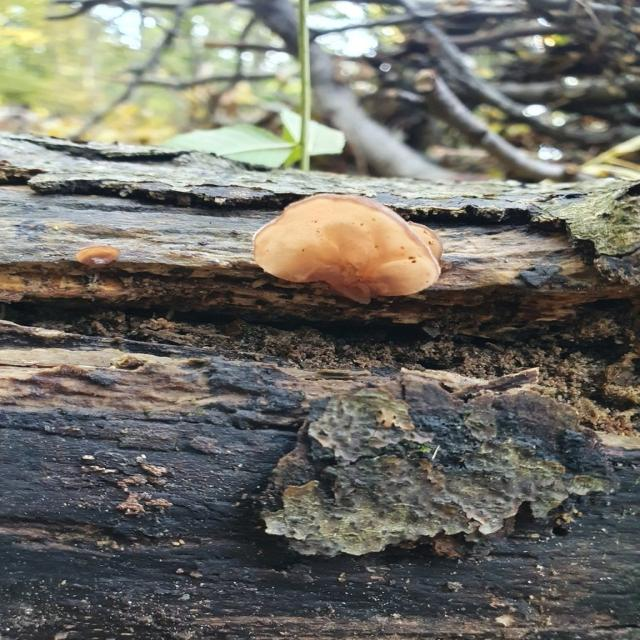Fase Muda: (245, 185, 450, 330)
